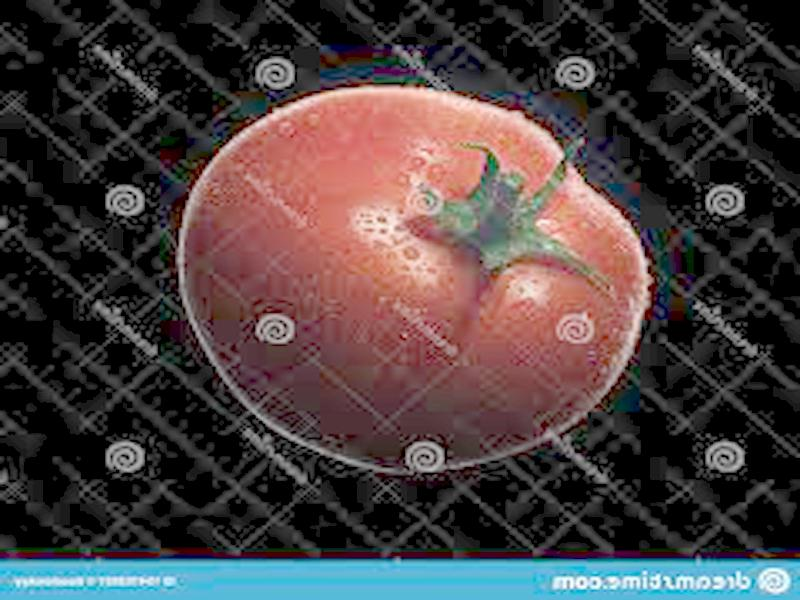Tomato: (176, 86, 649, 469)
